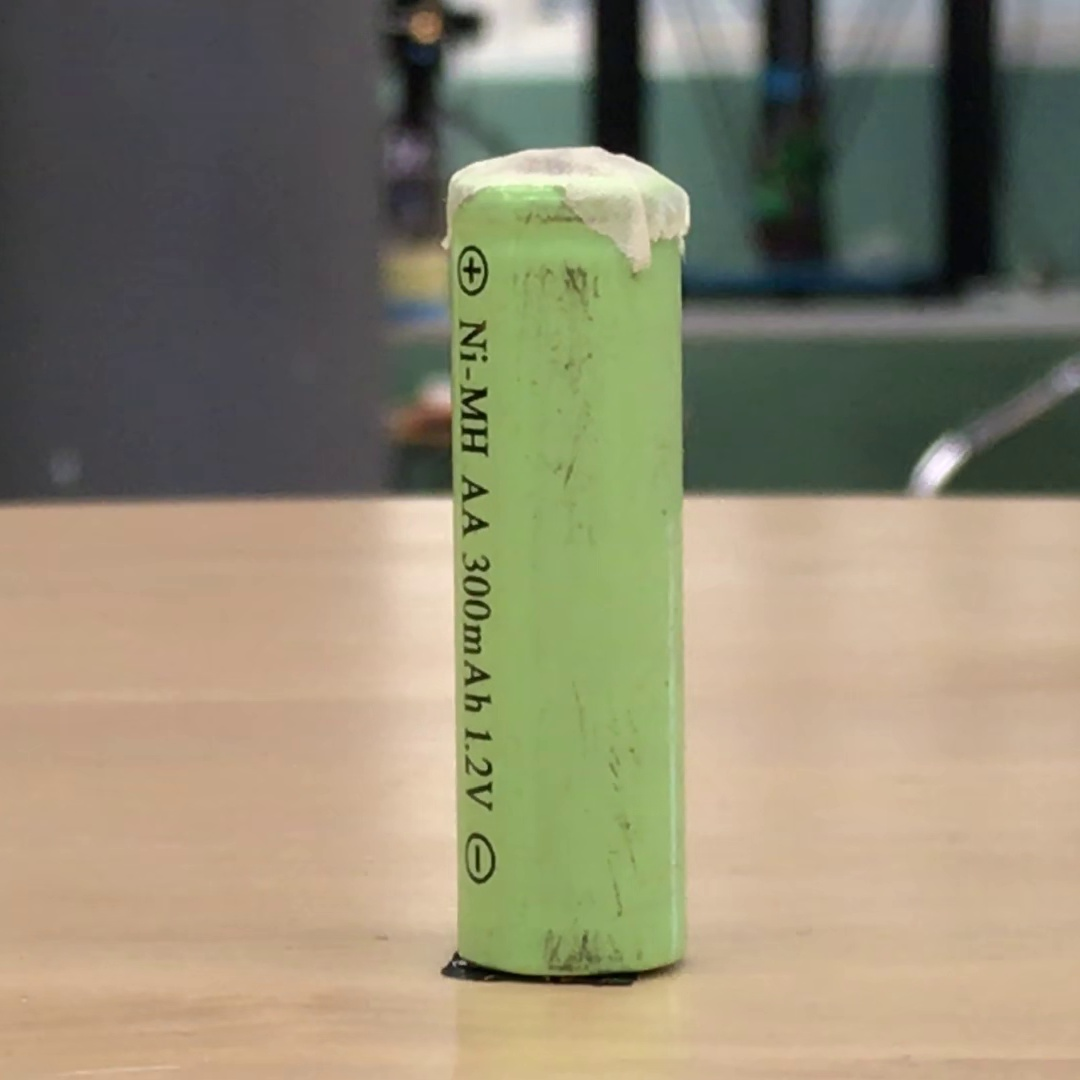keyword: (449, 310, 498, 455)
